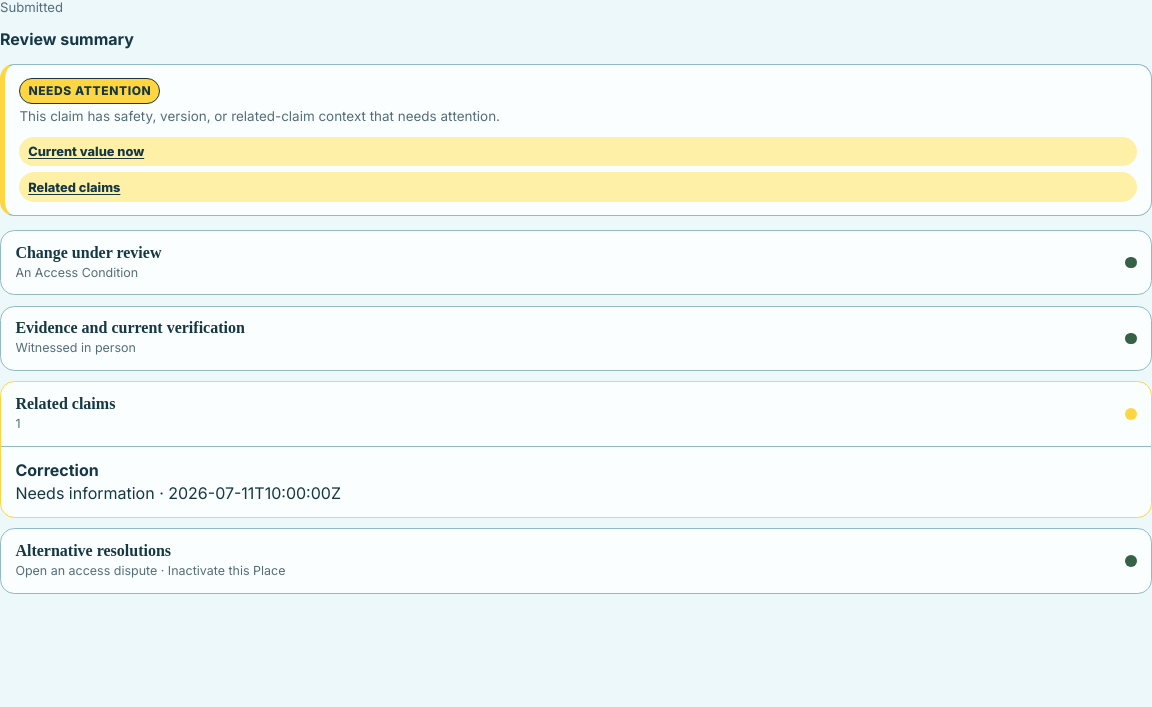
Test case: CorrectionReviewPanel › saves an application independently for a proposed Access Condition correction
Click the heading "Change under review An Access Condition": (88,252) [15,244,1137,280]
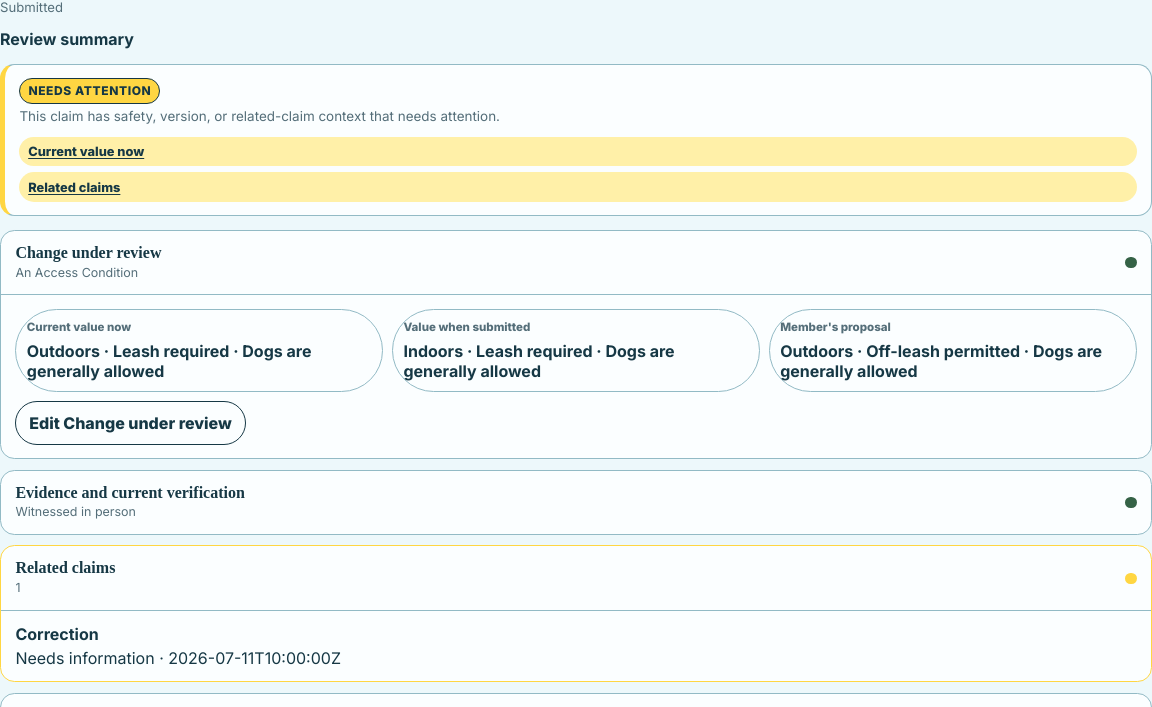
Click the button "Edit Change under review": (131,423) [15,401,246,445]
(page scrolled)
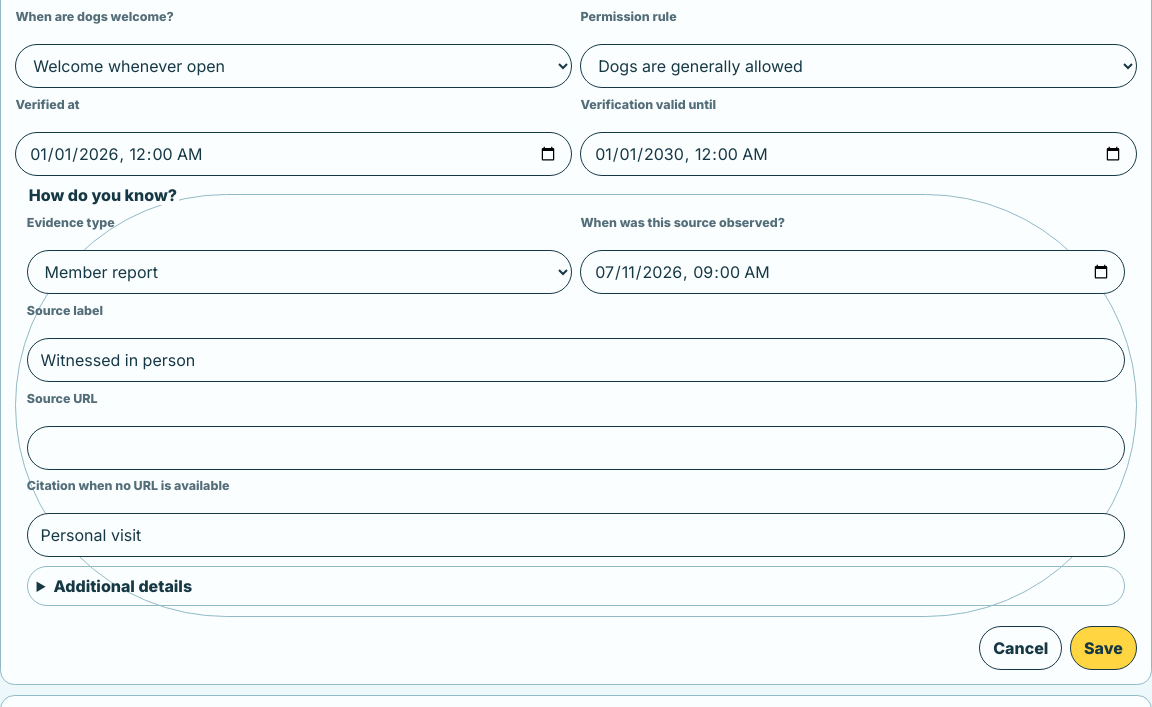
Result: the field named "verifiedAt" is shown at [15,132,572,176]
Result: the field named "freshnessUntil" is shown at [580,132,1137,176]
Result: the field named "evidenceSourceLabel" is shown at [27,338,1125,382]
